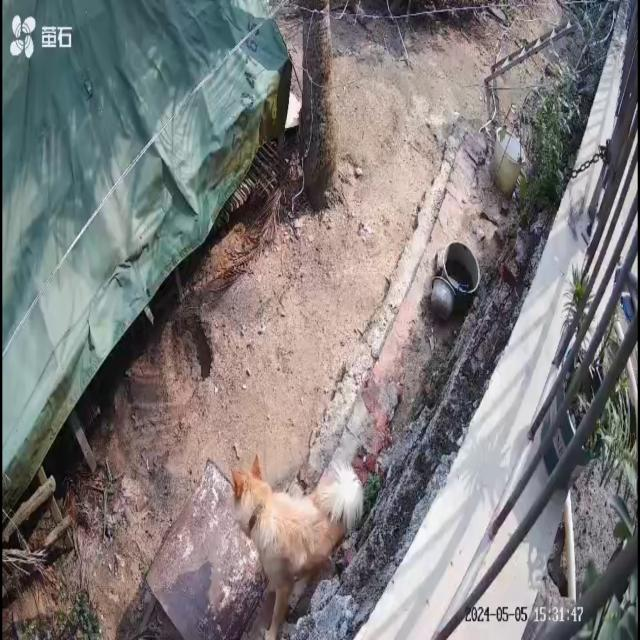dog: (231, 450, 365, 640)
